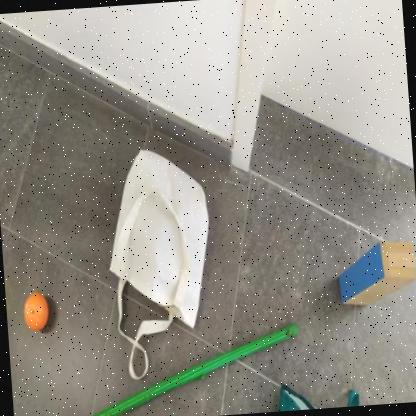bag: (79, 138, 228, 388)
